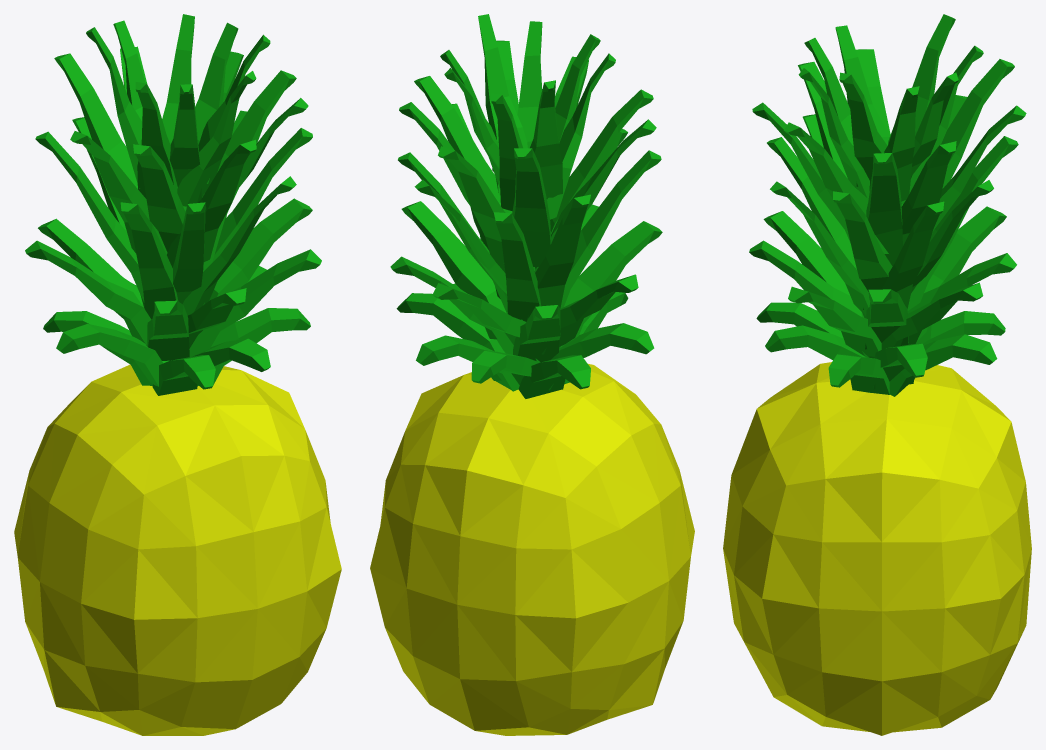
The model's file is Pineapple.fbx.
3 views of the same model, side by side, from view 1: azimuth 30°, elevation 25°; view 2: azimuth 150°, elevation 25°; view 3: azimuth 270°, elevation 25° (orthographic).
Visible parts, largest first — view 1: Pineapple; view 2: Pineapple; view 3: Pineapple.
Boxes of the visible parts, x1,y1,x2,y2 form: Pineapple: [14, 14, 341, 735]; Pineapple: [370, 14, 694, 735]; Pineapple: [723, 14, 1031, 735].
Size of the model in its own units: 22.22 by 53 by 22.13.
